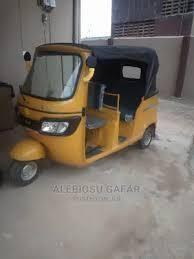keke: (9, 41, 170, 186)
